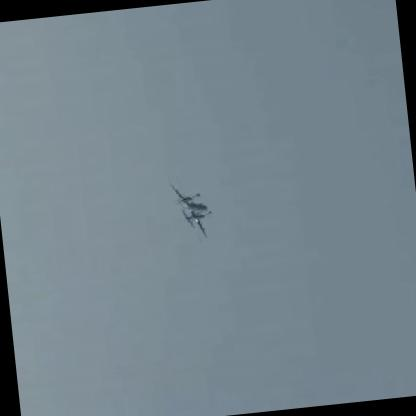plane: (171, 171, 218, 243)
